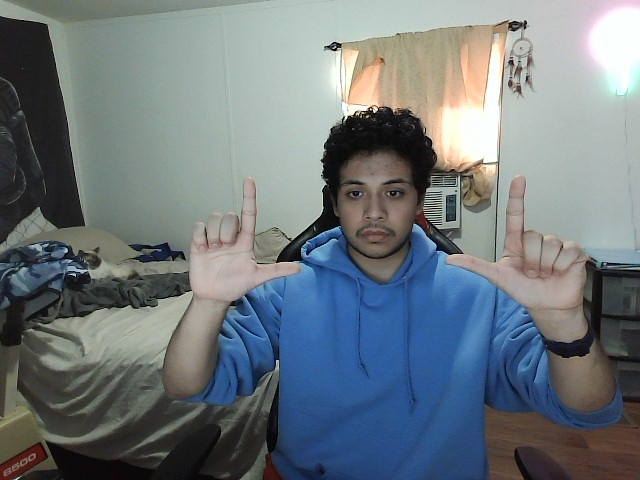L: (444, 174, 591, 313), (185, 171, 302, 315)
